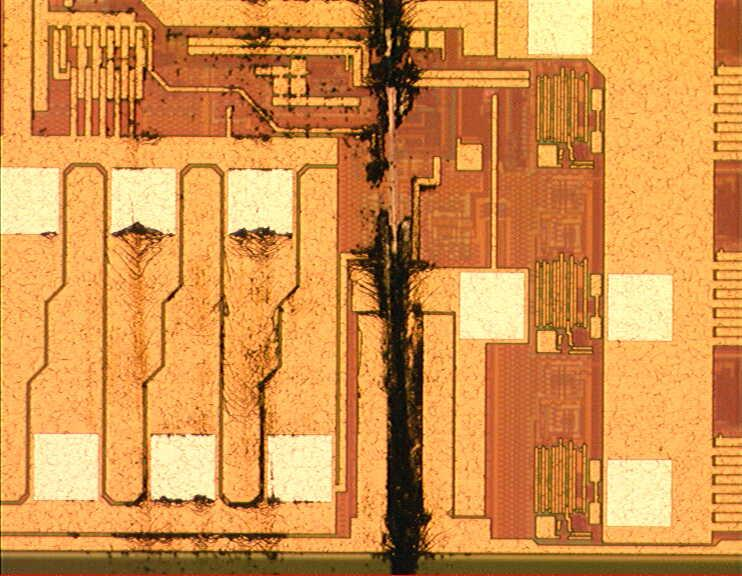SCRATCH: (101, 1, 448, 576)
